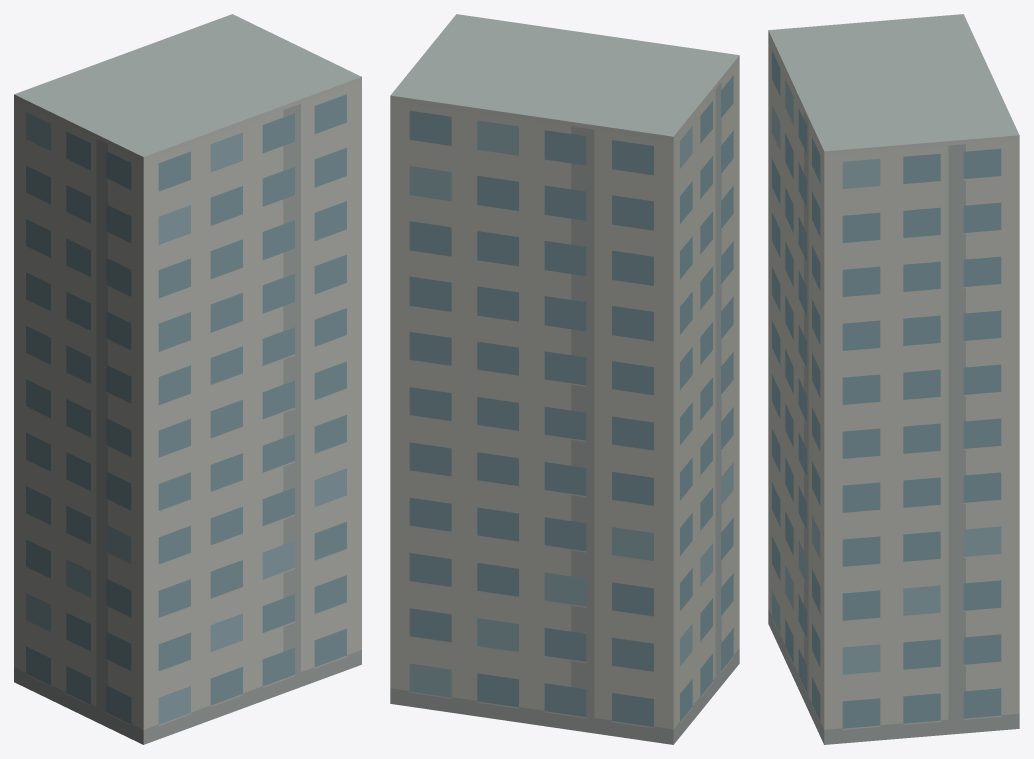
Rendered from residential-c5a5c411-79f5-48f1-85e0-d09a63e5c8ee.glb.
The picture shows the model from 3 angles, left to right: view 1: azimuth 30°, elevation 25°; view 2: azimuth 150°, elevation 25°; view 3: azimuth 270°, elevation 25°; orthographic projection. The views are drawn at different scales.
Parts seen in each view (by area): view 1: residential-c5a5c411-79f5-48f1-85e0-d09a63e5c8ee.tmp; view 2: residential-c5a5c411-79f5-48f1-85e0-d09a63e5c8ee.tmp; view 3: residential-c5a5c411-79f5-48f1-85e0-d09a63e5c8ee.tmp.
Part boxes in pixels (x1=…): residential-c5a5c411-79f5-48f1-85e0-d09a63e5c8ee.tmp: x1=14, y1=14, x2=361, y2=744; residential-c5a5c411-79f5-48f1-85e0-d09a63e5c8ee.tmp: x1=390, y1=14, x2=739, y2=744; residential-c5a5c411-79f5-48f1-85e0-d09a63e5c8ee.tmp: x1=768, y1=14, x2=1019, y2=744.
Bounding box in the file's own units: 16.39 × 33 × 12.67.
